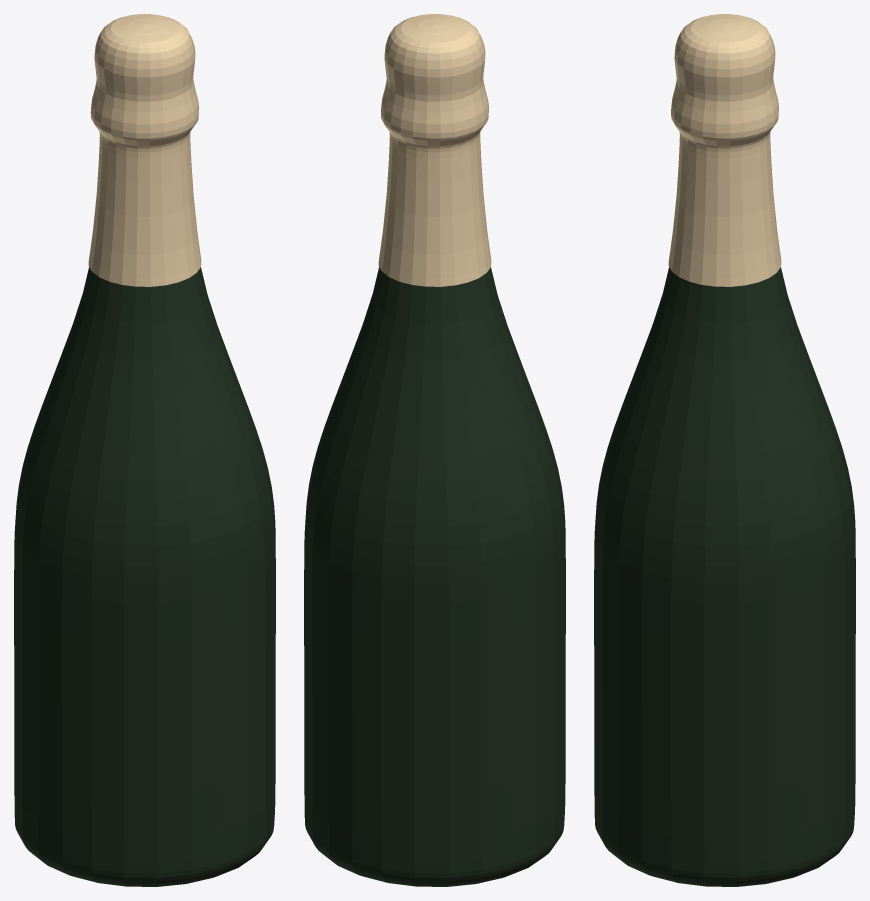
File: ChampagneBottle_SOURCE_DERIVATIVE.fbx
3 renders of one model, left to right at view 1: azimuth 30°, elevation 25°; view 2: azimuth 150°, elevation 25°; view 3: azimuth 270°, elevation 25°, orthographic.
Visible parts, largest first — view 1: FreeChampagneBottle_Derived; view 2: FreeChampagneBottle_Derived; view 3: FreeChampagneBottle_Derived.
Part boxes in pixels (x1,y1,x2,y2): FreeChampagneBottle_Derived: (14, 14, 275, 886); FreeChampagneBottle_Derived: (304, 14, 565, 886); FreeChampagneBottle_Derived: (594, 14, 855, 886).
Size of the model in its own units: 8.01 by 27.52 by 8.01.
